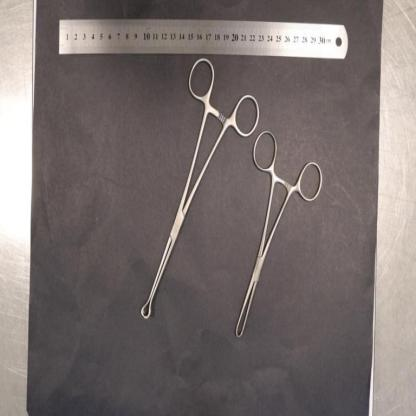8 Babcock Tissue Forceps: (140, 56, 260, 320)
Allis Tissue Forceps: (234, 126, 324, 340)
